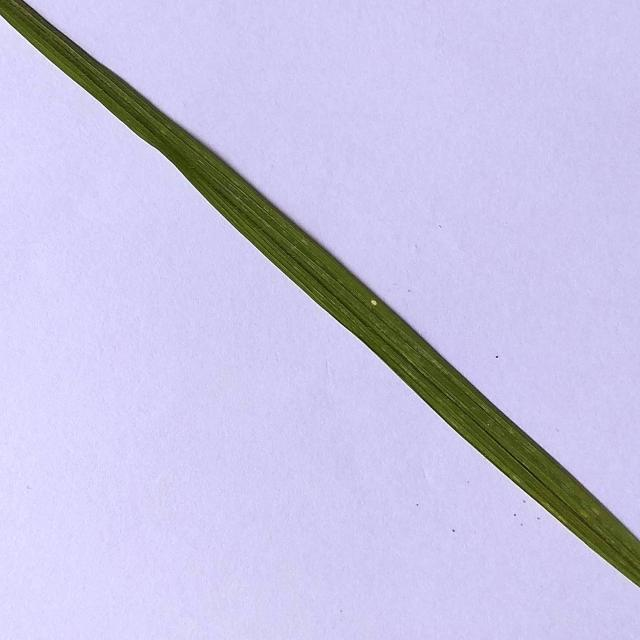Blast: (367, 297, 390, 312)
